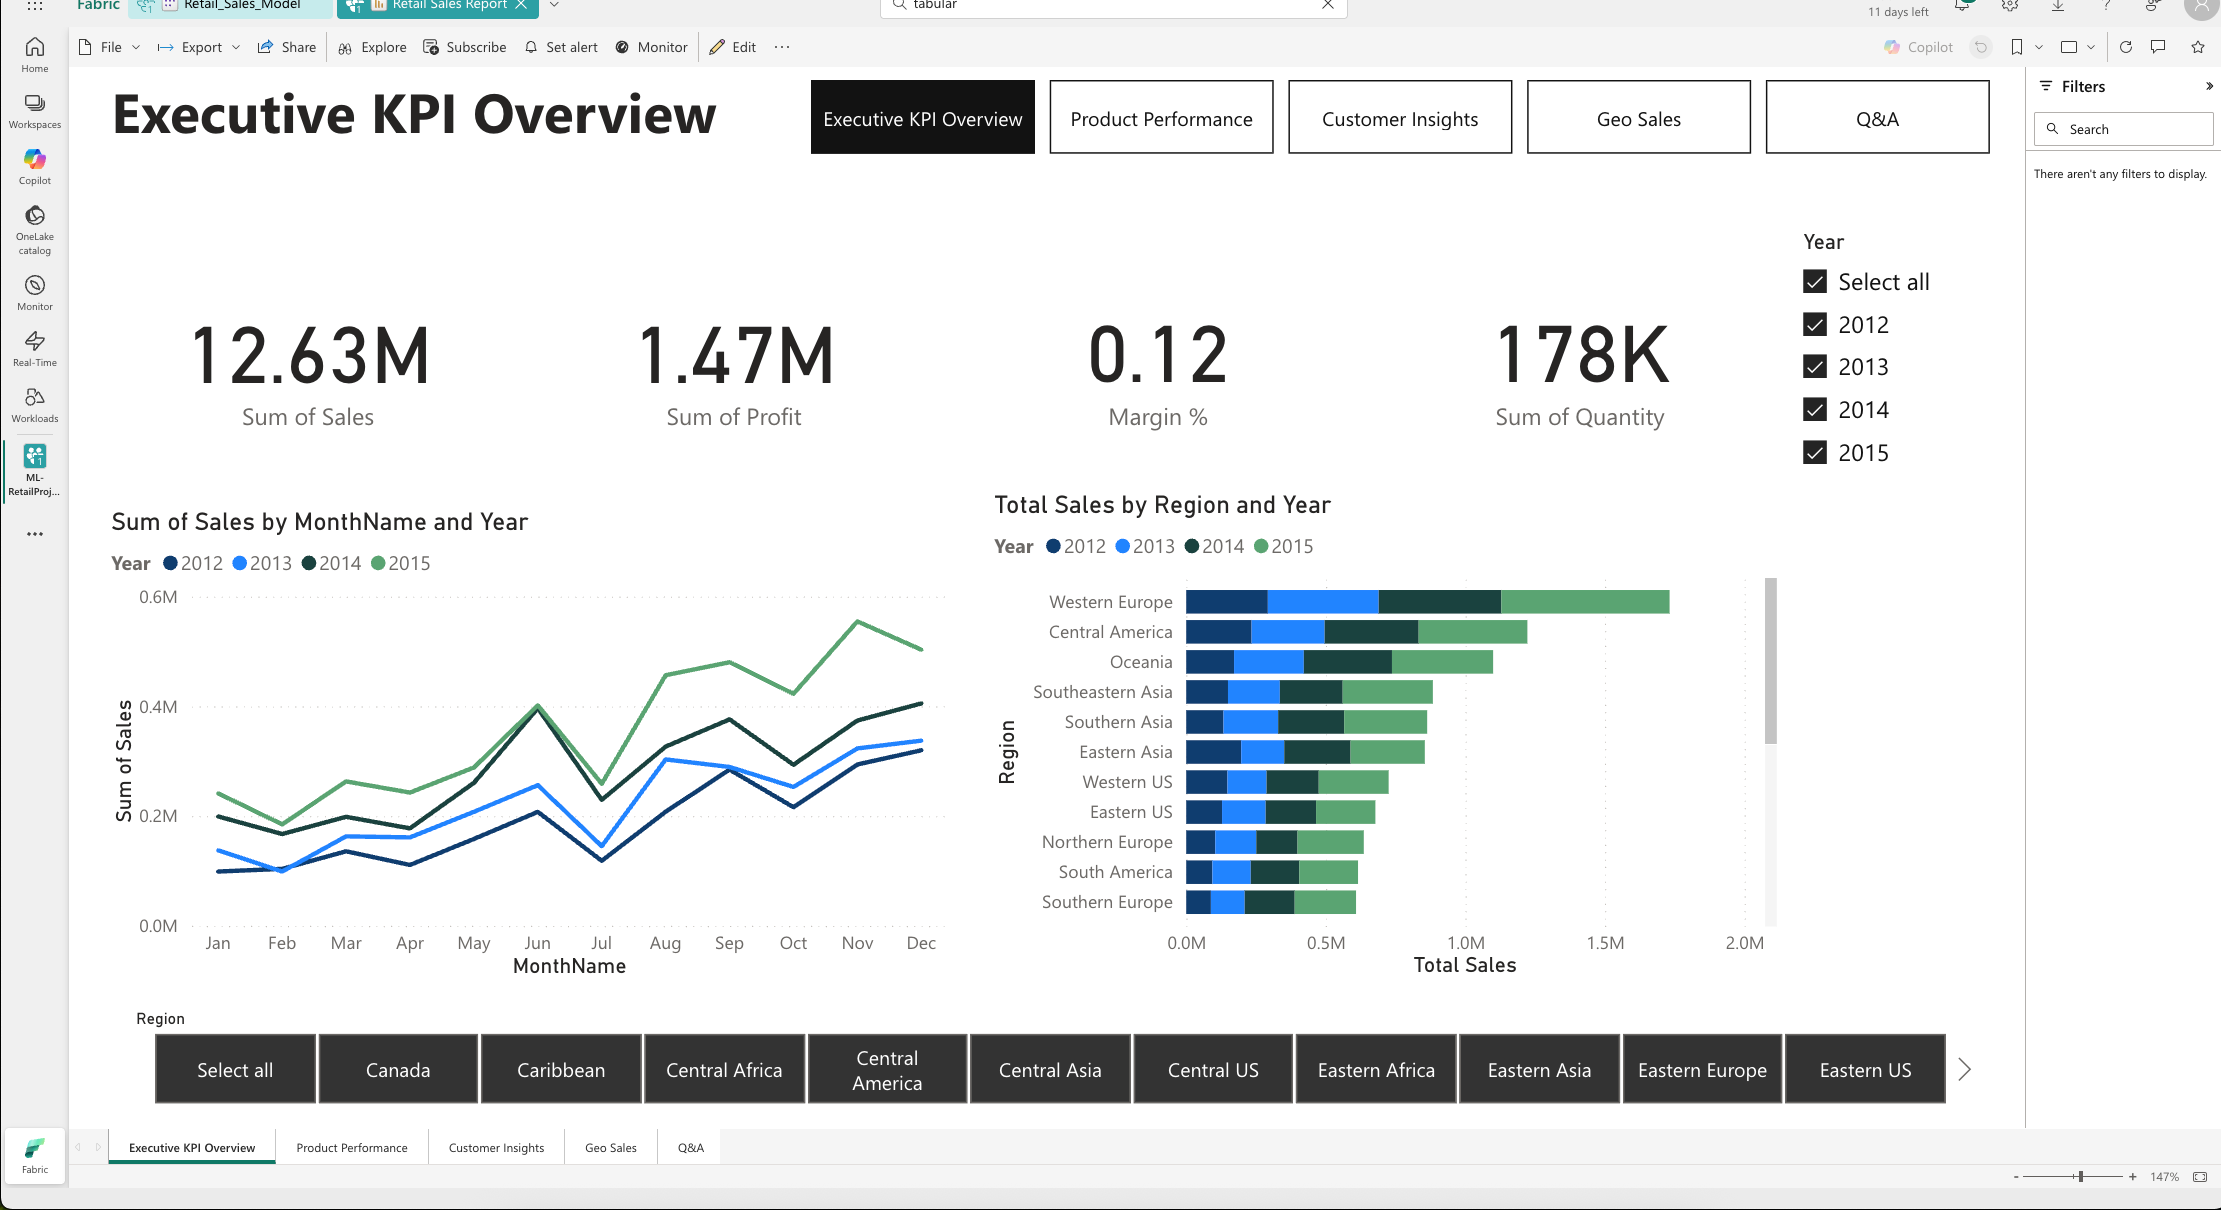

The dashboard page shown, as its layout file describes it:
{"tool":"powerbi","page":{"name":"Executive KPI Overview","canvas":[1280,720],"ordinal":0},"visuals":[{"type":"card","fields":{"Values":["Sum(gold_fact_sales.Sales)"]},"box":[0,107,277,183],"z":0},{"type":"card","fields":{"Values":["Sum(gold_fact_sales.Profit)"]},"box":[289,107,277,183],"z":1000},{"type":"card","fields":{"Values":["gold_fact_sales.Margin %"]},"box":[577,107,277,182],"z":2000},{"type":"card","fields":{"Values":["Sum(gold_fact_sales.Quantity)"]},"box":[863,107,277,182],"z":3000},{"type":"textbox","box":[863,301,277,385],"z":4000},{"type":"lineChart","fields":{"Category":["gold_dim_date.MonthName"],"Y":["Sum(gold_fact_sales.Sales)"],"Series":["gold_dim_date.Year"]},"box":[0,301,577,322],"z":5000},{"type":"barChart","fields":{"Category":["gold_dim_geo.Region"],"Y":["gold_fact_sales.Total Sales"],"Series":["gold_dim_date.Year"]},"box":[599,290,541,333],"z":6000},{"type":"slicer","fields":{"Values":["gold_dim_date.Year"]},"box":[1140,107,140,516],"z":7000},{"type":"slicer","fields":{"Values":["gold_dim_geo.Region"]},"box":[9,635,1265,75],"z":8000},{"type":"textbox","box":[0,0,467,82],"z":9000},{"type":"pageNavigator","box":[480,9,800,50],"z":10000}]}

Visuals, with their boxes on the page's 1280x720 design canvas (x1, y1, x2, y2). These are canvas units, not pixel positions in the 2221x1210 screenshot, which may show the page scaled, cropped or inside an application window:
card - Sum(gold_fact_sales.Sales): <region>0, 107, 277, 290</region>
card - Sum(gold_fact_sales.Profit): <region>289, 107, 566, 290</region>
card - gold_fact_sales.Margin %: <region>577, 107, 854, 289</region>
card - Sum(gold_fact_sales.Quantity): <region>863, 107, 1140, 289</region>
textbox: <region>863, 301, 1140, 686</region>
lineChart - gold_dim_date.MonthName x Sum(gold_fact_sales.Sales): <region>0, 301, 577, 623</region>
barChart - gold_dim_geo.Region x gold_fact_sales.Total Sales: <region>599, 290, 1140, 623</region>
slicer - gold_dim_date.Year: <region>1140, 107, 1280, 623</region>
slicer - gold_dim_geo.Region: <region>9, 635, 1274, 710</region>
textbox: <region>0, 0, 467, 82</region>
pageNavigator: <region>480, 9, 1280, 59</region>
